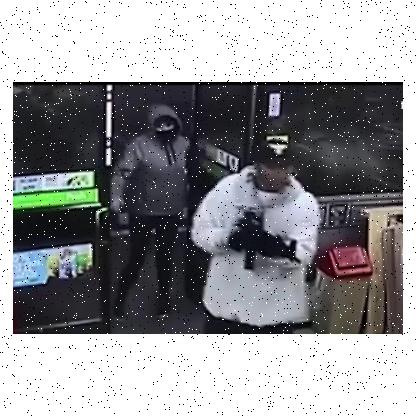gun: (223, 206, 301, 272)
